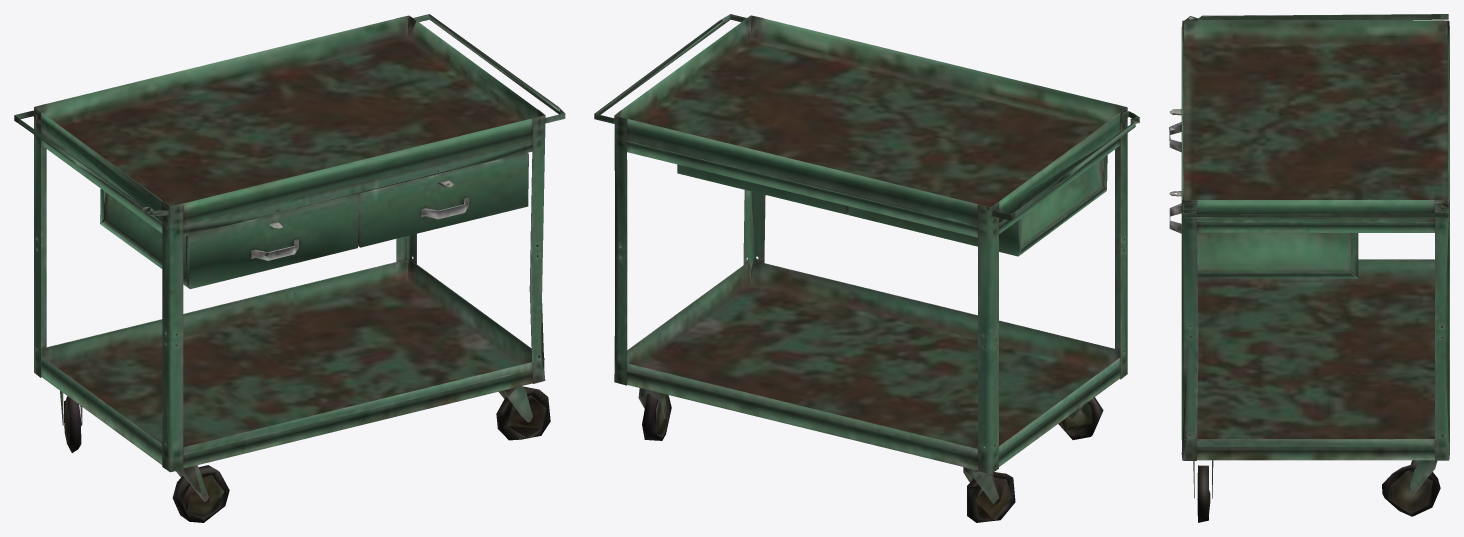
File: tool_cart.glb
3 renders of one model, left to right at view 1: azimuth 30°, elevation 25°; view 2: azimuth 150°, elevation 25°; view 3: azimuth 270°, elevation 25°, orthographic. The views are drawn at different scales.
Visible parts, largest first — view 1: tool_cart; view 2: tool_cart; view 3: tool_cart.
Part boxes in pixels (x1,y1,x2,y2): tool_cart: [14, 14, 565, 522]; tool_cart: [594, 14, 1139, 522]; tool_cart: [1169, 14, 1449, 522].
Bounding box in the file's own units: 1.26 × 0.9619 × 0.7484.
1 material, 1 textured.
